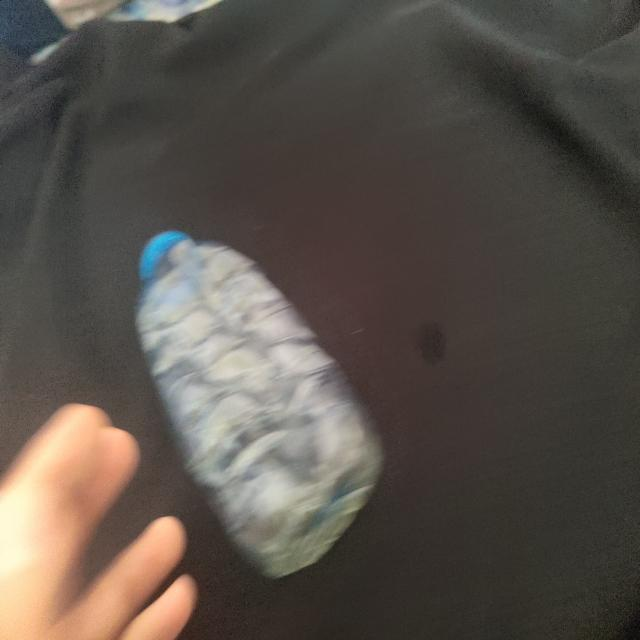plastic: (131, 233, 386, 574)
